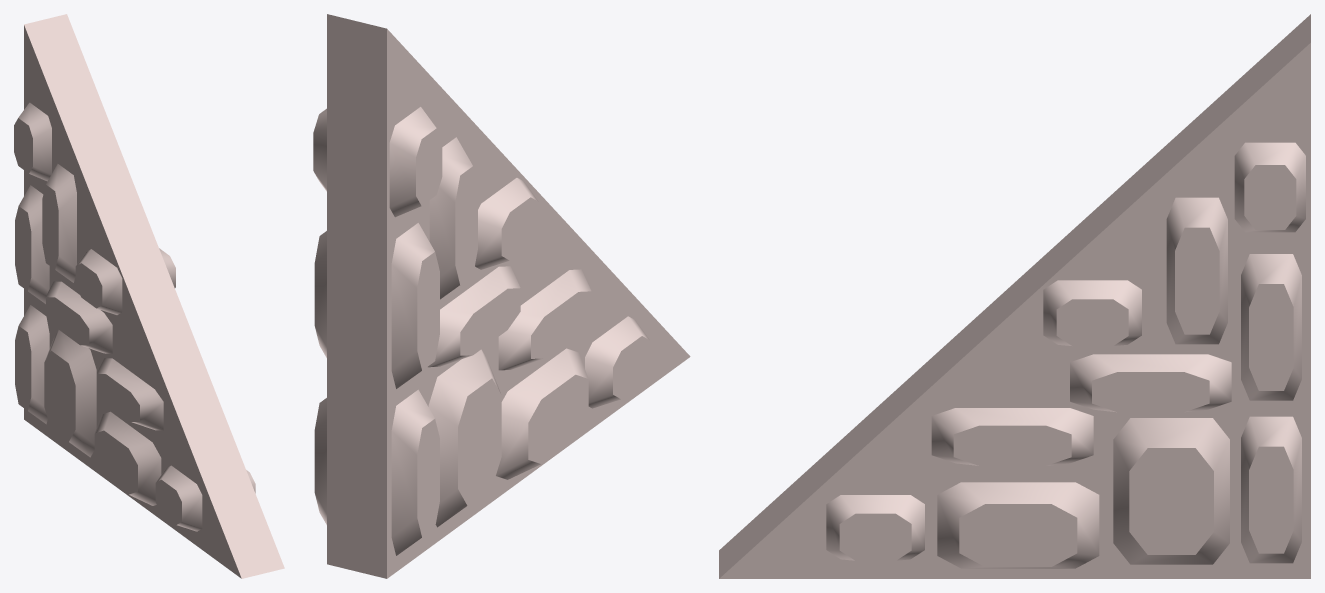
Rendered from Wall_triangle.fbx.
The picture shows the model from 3 angles, left to right: view 1: azimuth 30°, elevation 25°; view 2: azimuth 150°, elevation 25°; view 3: azimuth 270°, elevation 25°; orthographic projection. The views are drawn at different scales.
Parts seen in each view (by area): view 1: Wall_triangle; view 2: Wall_triangle; view 3: Wall_triangle.
Boxes of the visible parts, left/top/right/bottom form: Wall_triangle: left=14, top=14, right=284, bottom=578; Wall_triangle: left=313, top=14, right=690, bottom=578; Wall_triangle: left=719, top=14, right=1310, bottom=578.
Bounding box in the file's own units: 58.52 × 300 × 300.
